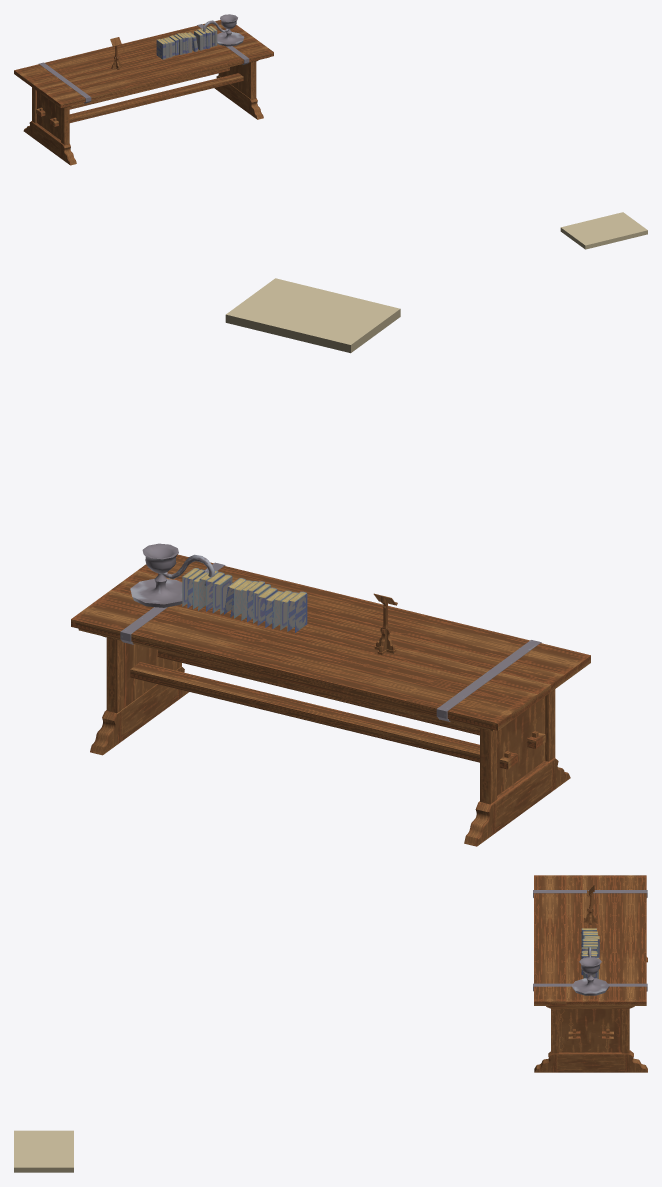
The model's file is realm_briarhaven_4.gltf.
3 renders of one model, top to bottom at view 1: azimuth 30°, elevation 25°; view 2: azimuth 150°, elevation 25°; view 3: azimuth 270°, elevation 25°, orthographic. The views are drawn at different scales.
Visible parts, largest first — view 1: f4b04e3619cf212187b96076e7e940da50275113f8897ecbcd59f5921342, b932791e2e642917e7b6c7fe9f891673e9680c5f2345e784416e4144e1ee, f52aa0036ce251ef1eb08d3699186b9705c3883af59782ac743cf0836182, 42a4131a7f9fe484a70590f8dd3499998303718cfb71bec957ec5894fb08; view 2: f4b04e3619cf212187b96076e7e940da50275113f8897ecbcd59f5921342, b932791e2e642917e7b6c7fe9f891673e9680c5f2345e784416e4144e1ee, f52aa0036ce251ef1eb08d3699186b9705c3883af59782ac743cf0836182, 42a4131a7f9fe484a70590f8dd3499998303718cfb71bec957ec5894fb08; view 3: f4b04e3619cf212187b96076e7e940da50275113f8897ecbcd59f5921342, b932791e2e642917e7b6c7fe9f891673e9680c5f2345e784416e4144e1ee, 42a4131a7f9fe484a70590f8dd3499998303718cfb71bec957ec5894fb08, f52aa0036ce251ef1eb08d3699186b9705c3883af59782ac743cf0836182.
Boxes of the visible parts, bbox=[...] form: f4b04e3619cf212187b96076e7e940da50275113f8897ecbcd59f5921342: bbox=[14, 20, 273, 165]; b932791e2e642917e7b6c7fe9f891673e9680c5f2345e784416e4144e1ee: bbox=[560, 212, 647, 249]; f52aa0036ce251ef1eb08d3699186b9705c3883af59782ac743cf0836182: bbox=[156, 26, 217, 59]; 42a4131a7f9fe484a70590f8dd3499998303718cfb71bec957ec5894fb08: bbox=[203, 14, 244, 46]; f4b04e3619cf212187b96076e7e940da50275113f8897ecbcd59f5921342: bbox=[71, 554, 590, 846]; b932791e2e642917e7b6c7fe9f891673e9680c5f2345e784416e4144e1ee: bbox=[225, 278, 400, 353]; f52aa0036ce251ef1eb08d3699186b9705c3883af59782ac743cf0836182: bbox=[182, 568, 307, 632]; 42a4131a7f9fe484a70590f8dd3499998303718cfb71bec957ec5894fb08: bbox=[130, 543, 214, 607]; f4b04e3619cf212187b96076e7e940da50275113f8897ecbcd59f5921342: bbox=[533, 875, 647, 1072]; b932791e2e642917e7b6c7fe9f891673e9680c5f2345e784416e4144e1ee: bbox=[14, 1130, 73, 1172]; 42a4131a7f9fe484a70590f8dd3499998303718cfb71bec957ec5894fb08: bbox=[572, 946, 609, 995]; f52aa0036ce251ef1eb08d3699186b9705c3883af59782ac743cf0836182: bbox=[581, 928, 599, 978].
Bounding box in the file's own units: 4.77 × 1.13 × 5.8.
6 materials, 6 textured.
